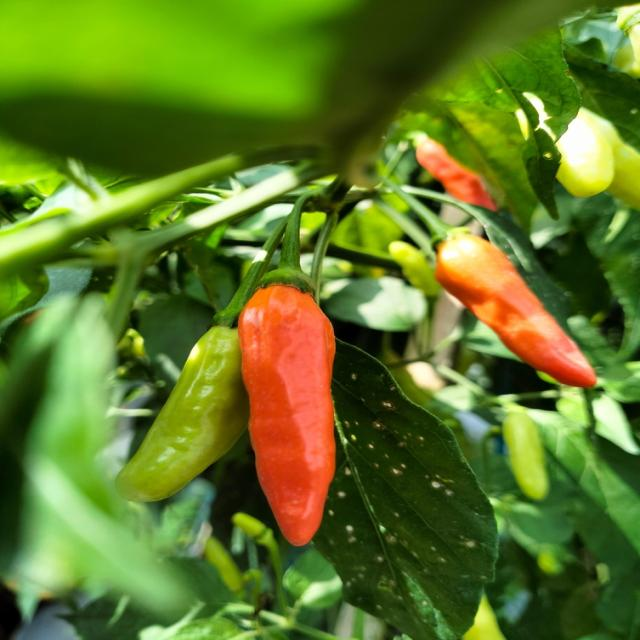Ripe: (239, 285, 335, 545), (435, 232, 596, 387)
Unripe: (116, 326, 249, 501)
